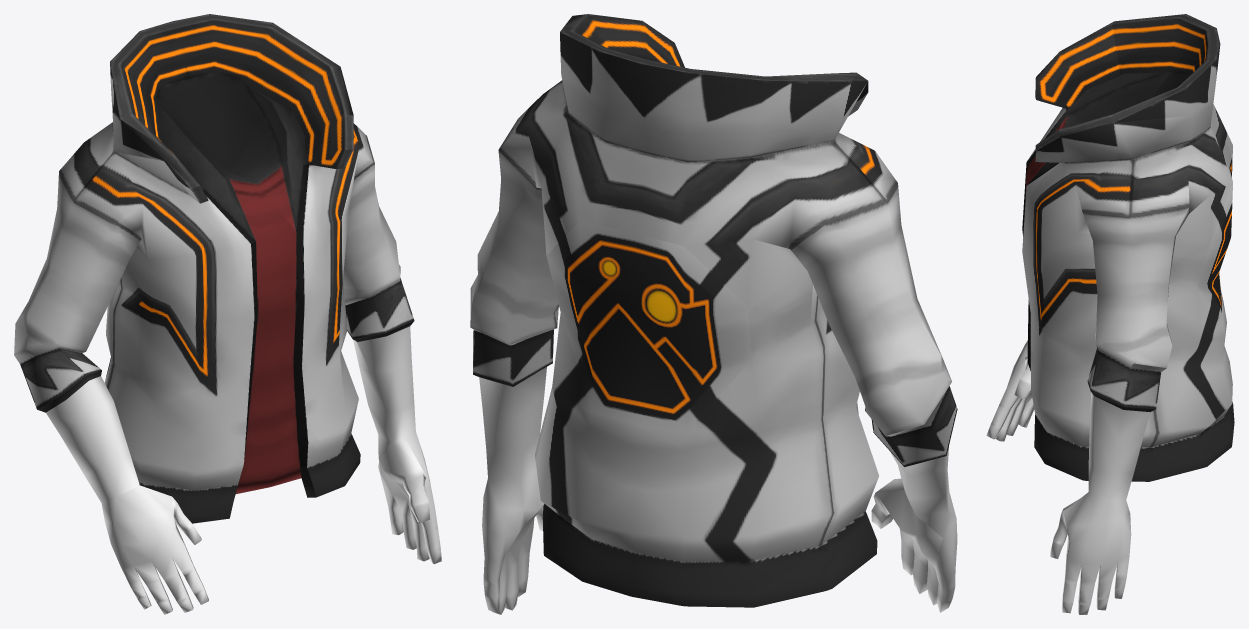
3 renders of one model, left to right at view 1: azimuth 30°, elevation 25°; view 2: azimuth 150°, elevation 25°; view 3: azimuth 270°, elevation 25°, orthographic. The views are drawn at different scales.
Parts seen in each view (by area): view 1: M_uBody_RazorbladeJacket; view 2: M_uBody_RazorbladeJacket; view 3: M_uBody_RazorbladeJacket.
Boxes of the visible parts, x1=… form: M_uBody_RazorbladeJacket: x1=14, y1=14, x2=441, y2=614; M_uBody_RazorbladeJacket: x1=470, y1=14, x2=957, y2=614; M_uBody_RazorbladeJacket: x1=986, y1=14, x2=1234, y2=614.
Size of what is drawn, in the model's own units: 0.6724 by 0.8923 by 0.4099.
2 materials, 2 textured.
